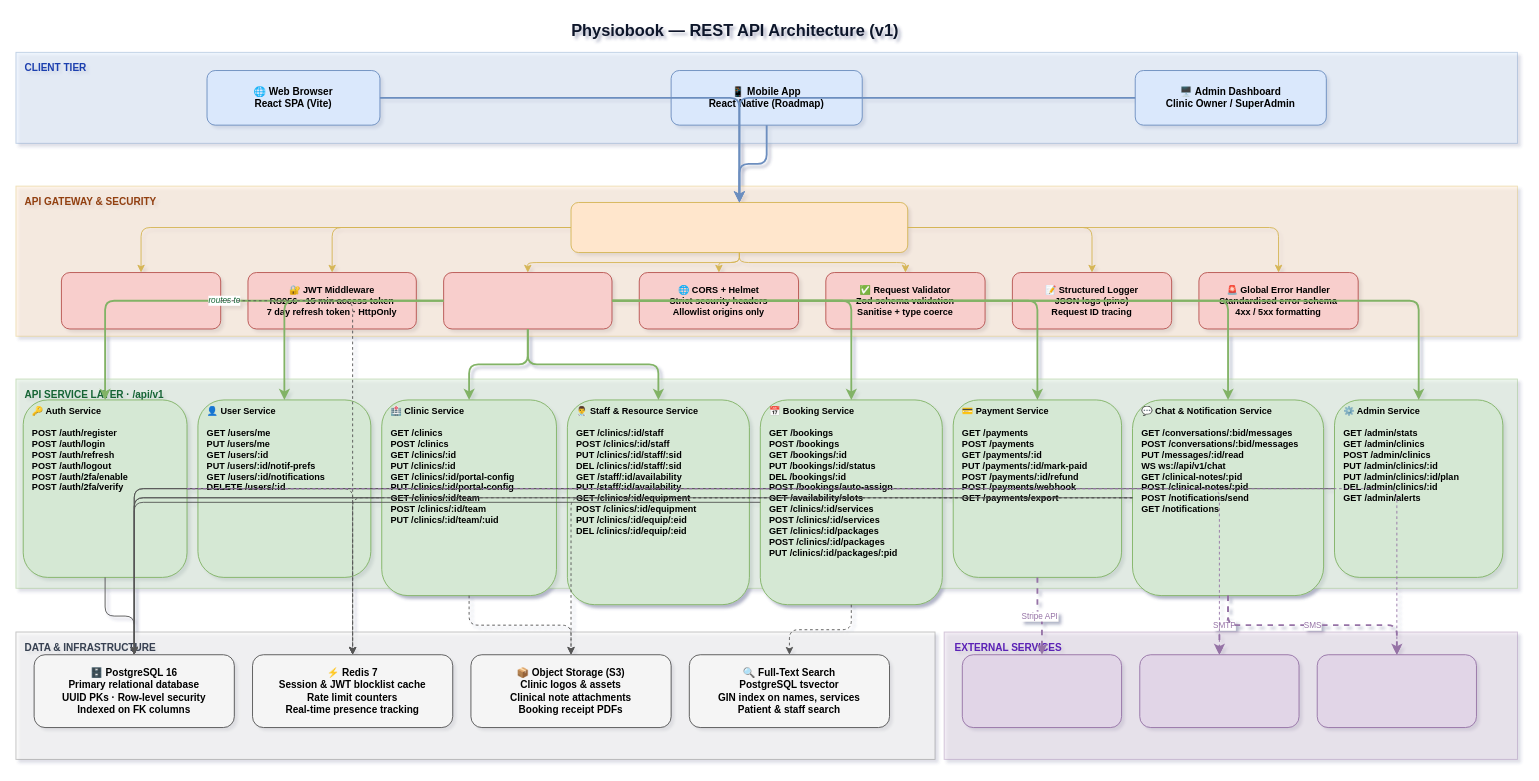
The diagram is 1539 pixels wide and 781 high, and some of its shapes have lost their labels. Each missing label, with the centre of its shape:
⚖️ Load Balancer / Reverse Proxy Nginx · SSL Termination · HTTP/2: (739,227)
💳 Stripe Payment processing Refunds & webhooks Saved payment methods: (1041,691)
📧 SendGrid Booking confirmations Invitation emails Refund receipts: (1219,691)
📱 Twilio SMS appointment reminders 2FA OTP delivery Cancellation alerts: (1396,691)
🚦 Rate Limiter 100 req / min per IP Redis sliding window: (141,300)
🛡️ RBAC Guard patient | clinic_admin therapist | super_admin: (527,300)
